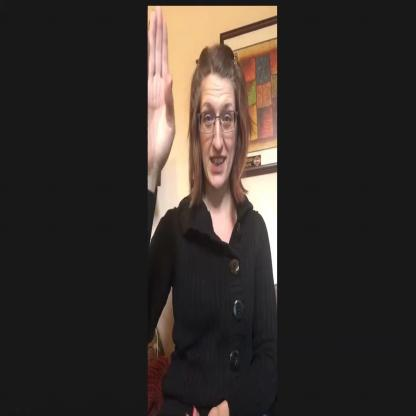Hello: (150, 7, 260, 247)
